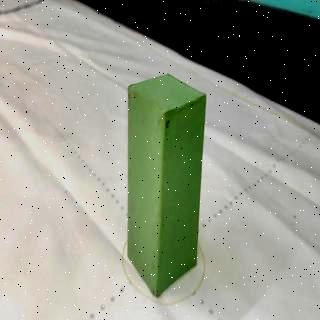greenbox: (128, 72, 205, 298)
